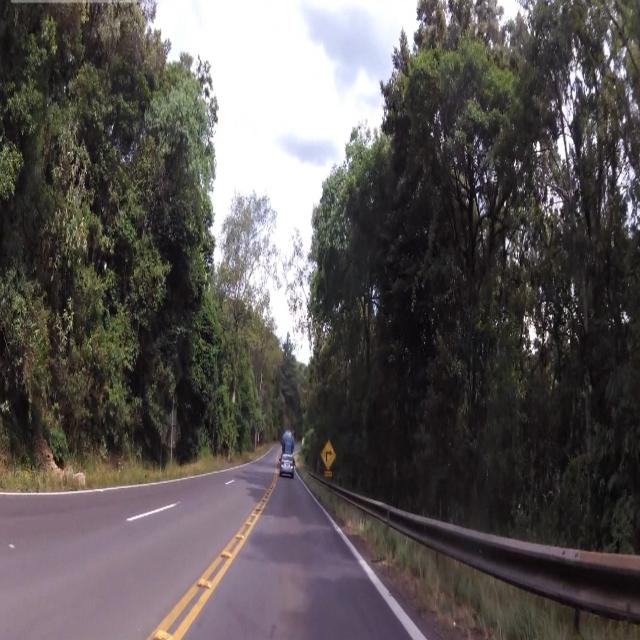A-1b: (321, 433, 339, 472)
